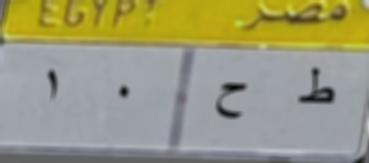0: (41, 63, 66, 109), (109, 78, 143, 108)
7aa: (210, 76, 251, 130)
Taa: (294, 60, 335, 116)
